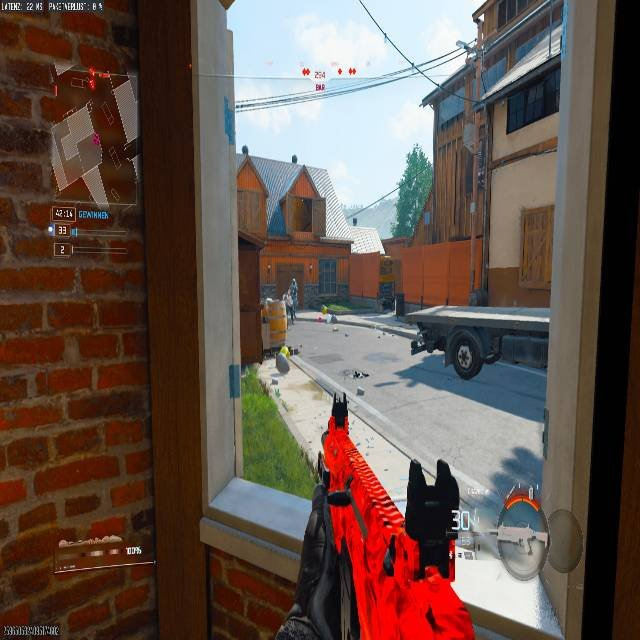player: (283, 281, 299, 321)
